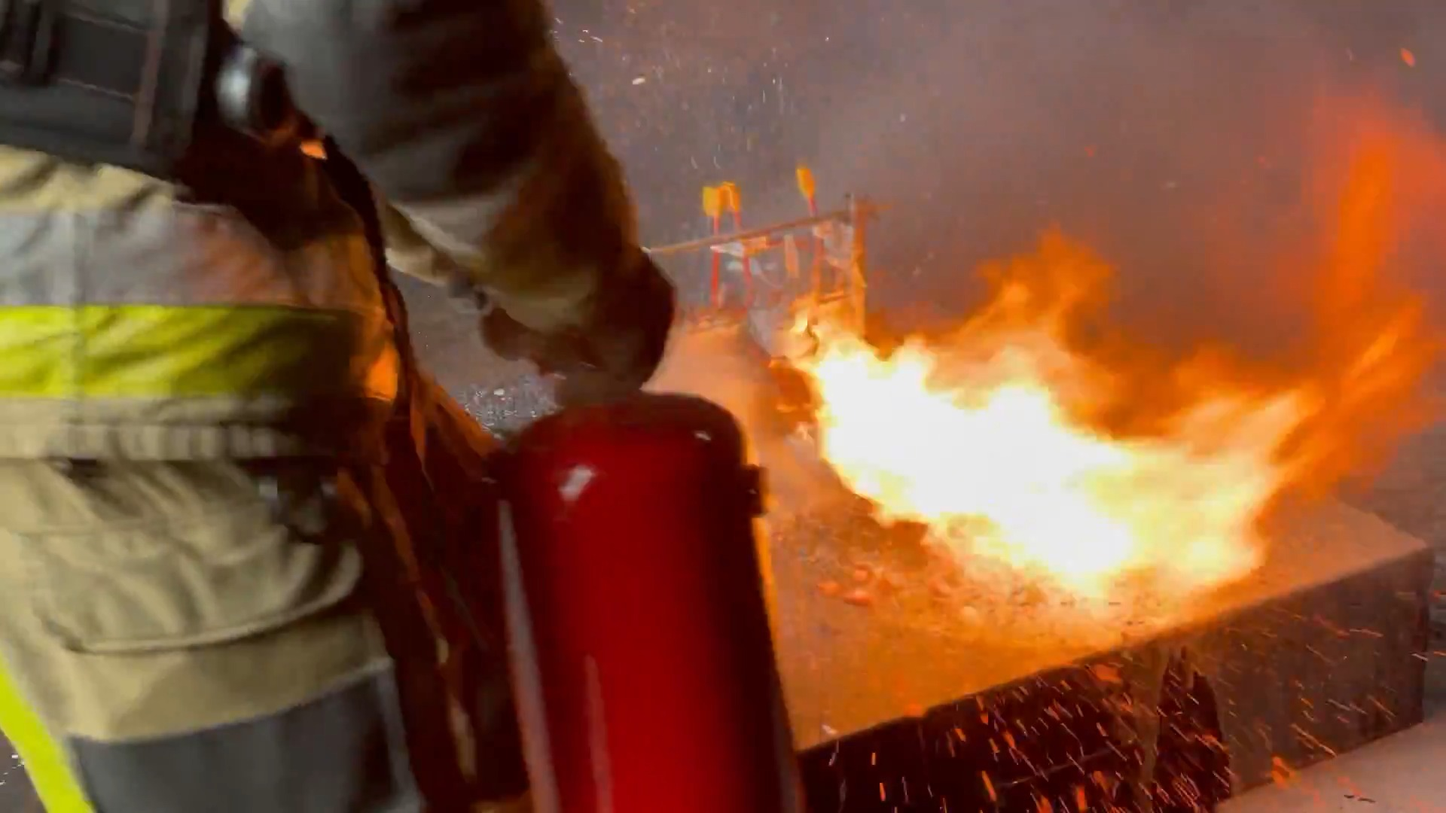fire: (751, 117, 1446, 630)
smoke: (584, 0, 1446, 347)
